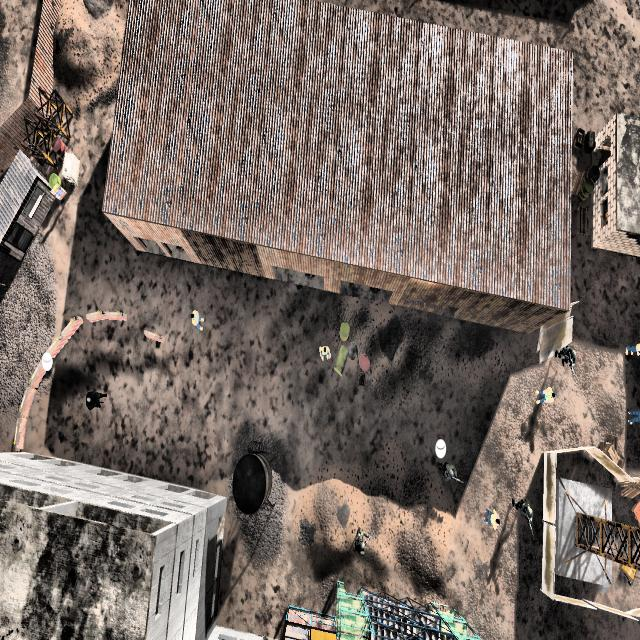bad: (79, 381, 110, 419), (350, 514, 372, 567), (514, 486, 535, 535), (440, 456, 463, 498), (556, 341, 578, 377)
good: (533, 372, 556, 416), (622, 329, 640, 375), (624, 394, 640, 439), (314, 338, 334, 373), (188, 302, 206, 340), (481, 502, 501, 534)
